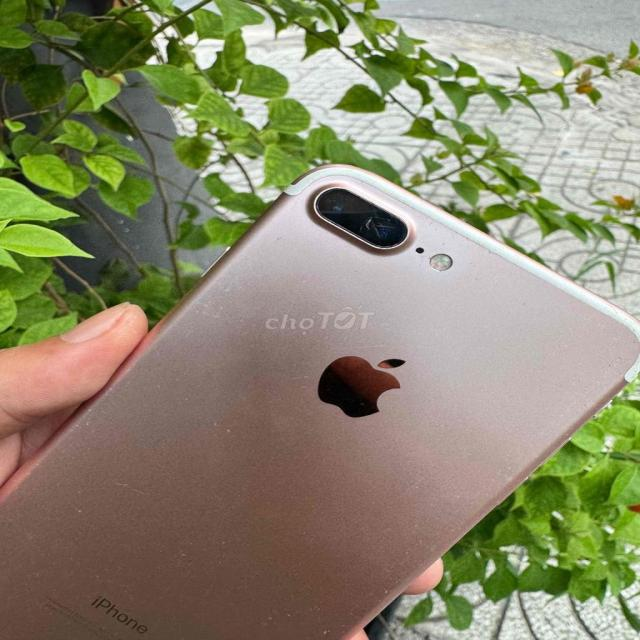gen_7_8: (0, 78, 640, 638)
